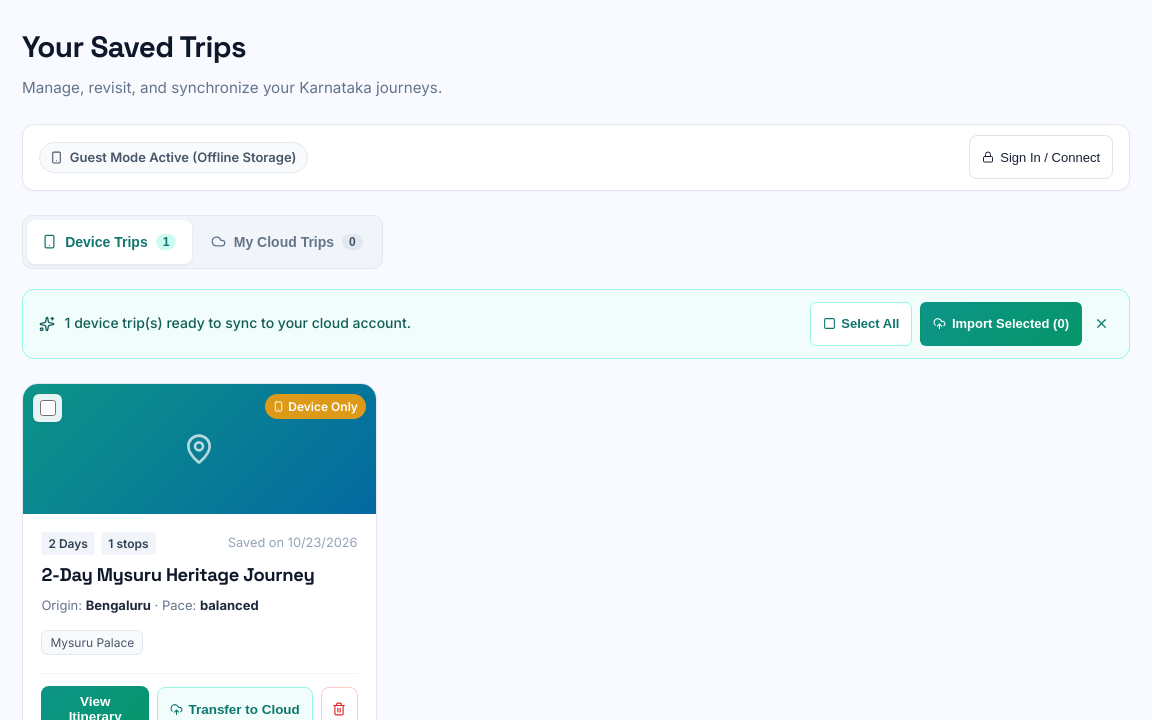
Test: SavedTripsView Component › switches to cloud tab, prompts connect when unauthenticated, and clears cache on signout
Later steps or results of the test are not shown.
Step 1. Click the button with test id "subtab-cloud-trips" → (287, 242), box [196,220,378,264]
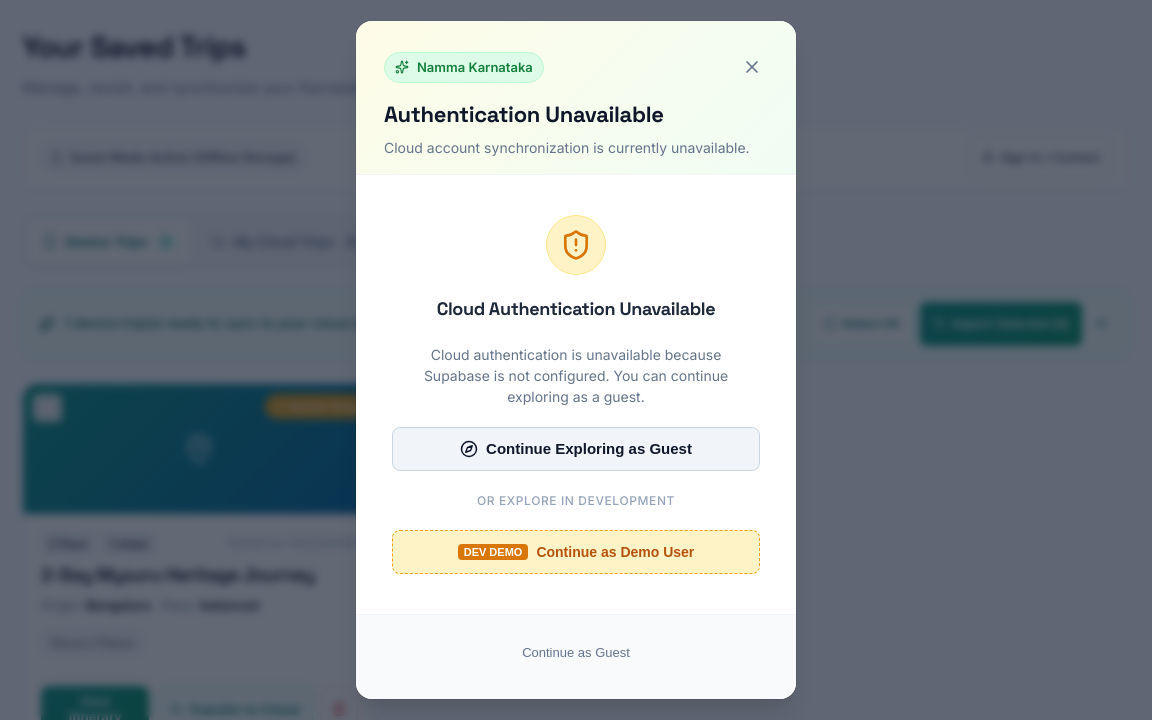
Check: the dialog is shown
Check: the heading "Authentication Unavailable" is shown, box [384,100,664,128]
